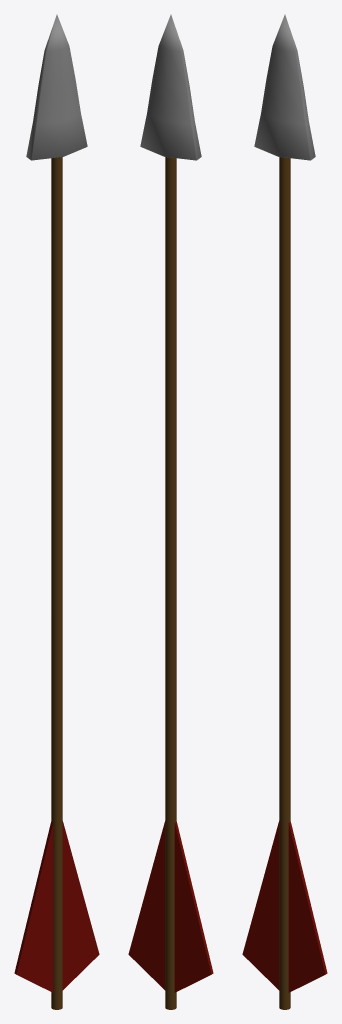
Rendered from Arrow_01.fbx.
The picture shows the model from 3 angles, left to right: view 1: azimuth 30°, elevation 25°; view 2: azimuth 150°, elevation 25°; view 3: azimuth 330°, elevation 25°; orthographic projection.
Visible parts, largest first — view 1: Arrow01; view 2: Arrow01; view 3: Arrow01.
Part boxes in pixels (x1,y1,x2,y2): Arrow01: (14, 14, 99, 1009); Arrow01: (128, 14, 213, 1009); Arrow01: (242, 14, 327, 1009).
Bounding box in the file's own units: 108 × 1234 × 30.88.
